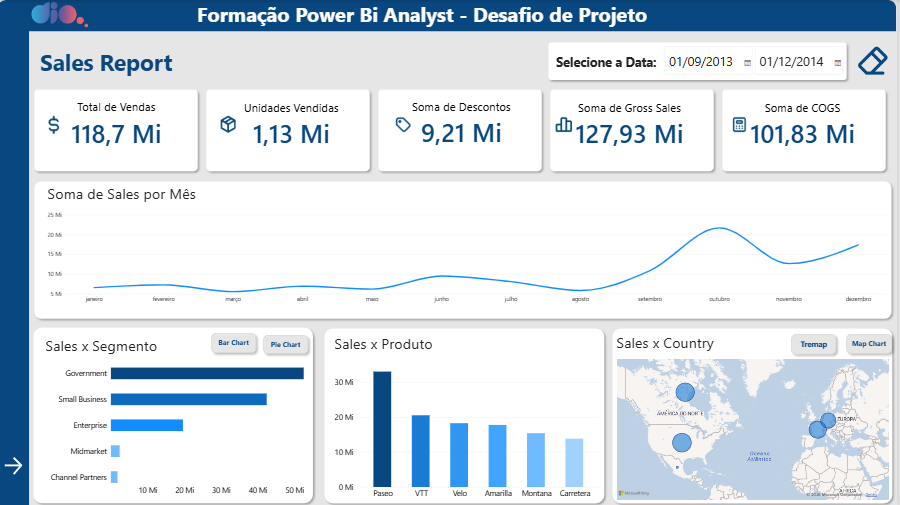

The dashboard page shown, as its layout file describes it:
{"tool":"powerbi","page":{"name":"Página 1","canvas":[1920,1080],"ordinal":0},"visuals":[{"type":"shape","box":[1172.1,80.4,652.4,98.2],"z":0,"group":"g4"},{"type":"group","id":"g1","title":"cartoes","box":[78.7,151.9,1827.7,227.4],"z":0},{"type":"shape","box":[78.7,181.9,365.5,192.3],"z":0,"group":"g1"},{"type":"map","title":"Sales x Country","fields":{"Category":["financials.Country"],"Size":["Sum(financials. Sales)"]},"box":[1308,694.2,611.4,386.1],"z":0,"group":"g2"},{"type":"clusteredBarChart","title":"Sales x Segmento","fields":{"Category":["financials.Segment"],"Y":["Sum(financials. Sales)"]},"box":[96.1,700.4,600.9,375],"z":0,"group":"g3"},{"type":"shape","box":[9.9,0,66.6,1080.9],"z":1000},{"type":"slicer","fields":{"Values":["financials.Date"]},"box":[1421.6,94,442.6,73.8],"z":1000,"group":"g4"},{"type":"shape","box":[444.2,181.9,365.5,192.3],"z":1000,"group":"g1"},{"type":"textbox","box":[1196.8,113.1,250.2,50.4],"z":2000,"group":"g4"},{"type":"shape","box":[809.8,181.9,365.5,192.3],"z":2000,"group":"g1"},{"type":"image","box":[1685.2,477.9,71.8,60.8],"z":2000},{"type":"actionButton","title":"mapchart","box":[1804,701.1,115.4,59],"z":2000,"group":"g2"},{"type":"actionButton","title":"piechart","box":[565.9,703.7,113.4,57.4],"z":2000,"group":"g3"},{"type":"shape","box":[42.4,0,1877.6,67],"z":3000},{"type":"shape","box":[1175.3,181.9,365.5,192.3],"z":3000,"group":"g1"},{"type":"actionButton","title":"barchart","box":[454.8,699.5,113.4,59.9],"z":3000,"group":"g3"},{"type":"actionButton","title":"tremap","box":[1687,701.3,113.3,60.8],"z":3000,"group":"g2"},{"type":"image","title":"dio","box":[73.6,2.6,130.8,56.8],"z":4000},{"type":"shape","box":[1540.9,181.9,365.5,192.3],"z":4000,"group":"g1"},{"type":"textbox","box":[433.3,0,1053.8,59.2],"z":5000},{"type":"cardVisual","fields":{"Data":["Sum(financials.COGS)"]},"box":[1581.4,178.5,279.1,174.1],"z":5000,"group":"g1"},{"type":"cardVisual","fields":{"Data":["Sum(financials. Sales)"]},"box":[142.8,186.2,240.3,158.7],"z":6000,"group":"g1"},{"type":"shape","box":[79.5,376.8,1840.5,310.2],"z":6000},{"type":"cardVisual","fields":{"Data":["Sum(financials.Discounts)"]},"box":[867.5,151.9,257.4,227.4],"z":7000,"group":"g1"},{"type":"shape","box":[76.9,687,612.7,392.2],"z":7000},{"type":"image","title":"cifrao","box":[108.5,245.2,40.8,40.8],"z":8000,"group":"g1"},{"type":"shape","box":[695.1,688.6,613.5,390.4],"z":8000},{"type":"image","title":"caixa","box":[477.4,246.3,42.9,38.6],"z":9000,"group":"g1"},{"type":"shape","box":[1306.5,688.6,613.5,390.4],"z":9000},{"type":"textbox","box":[100.8,100.8,283.2,72.9],"z":10000},{"type":"cardVisual","fields":{"Data":["Sum(financials.Units Sold)"]},"box":[509.6,165.8,248.8,199.5],"z":10000,"group":"g1"},{"type":"image","title":"grafic","box":[1193.9,217.3,38.6,96.5],"z":11000,"group":"g1"},{"type":"lineChart","fields":{"Category":["financials.Date.Variation.Hierarquia de datas.Mês"],"Y":["Sum(financials. Sales)"]},"box":[99.5,375.7,1814.9,289.7],"z":11000},{"type":"cardVisual","fields":{"Data":["Sum(financials.Gross Sales)"]},"box":[1218.4,158.3,270.3,214.5],"z":12000},{"type":"image","title":"etiqueta","box":[845,249.5,55.8,32.2],"z":12000,"group":"g1"},{"type":"image","title":"calculator","box":[1560.8,245.2,51.5,40.8],"z":13000,"group":"g1"},{"type":"actionButton","box":[10.3,904.9,64.1,169.2],"z":13000},{"type":"columnChart","title":"Sales x Produto","fields":{"Category":["financials.Product"],"Y":["Sum(financials. Sales)"]},"box":[710.1,695.2,596.4,386.1],"z":14000},{"type":"group","id":"g2","title":"salesxcountry","box":[1306.7,693.4,613.3,386.8],"z":15000},{"type":"group","id":"g3","title":"salesxsegment","box":[85,699.5,612,382.1],"z":16000},{"type":"image","box":[1831.3,94.1,75.3,69.9],"z":17000},{"type":"group","id":"g4","title":"data","box":[1172.1,80.4,692.1,98.2],"z":18000},{"type":"actionButton","title":"borracha1","box":[1820.5,67.2,86.1,96.8],"z":19000}]}

Visuals, with their boxes in screenshot pixels (x1, y1, x2, y2), scaled from the page's 1920x1080 canvas onto the 900x505 screenshot:
shape: 549:38:855:84
"cartoes" group: 37:71:894:177
shape: 37:85:208:175
"Sales x Country" map: 613:325:899:504
"Sales x Segmento" clusteredBarChart: 45:328:327:503
shape: 5:0:36:504
slicer - financials.Date: 666:44:874:78
shape: 208:85:380:175
textbox: 561:53:678:76
shape: 380:85:551:175
image: 790:223:824:252
"mapchart" actionButton: 846:328:899:355
"piechart" actionButton: 265:329:318:356
shape: 20:0:899:31
shape: 551:85:722:175
"barchart" actionButton: 213:327:266:355
"tremap" actionButton: 791:328:844:356
"dio" image: 34:1:96:28
shape: 722:85:894:175
textbox: 203:0:697:28
cardVisual - Sum(financials.COGS): 741:83:872:165
cardVisual - Sum(financials. Sales): 67:87:180:161
shape: 37:176:899:321
cardVisual - Sum(financials.Discounts): 407:71:527:177
shape: 36:321:323:504
"cifrao" image: 51:115:70:134
shape: 326:322:613:504
"caixa" image: 224:115:244:133
shape: 612:322:899:504
textbox: 47:47:180:81
cardVisual - Sum(financials.Units Sold): 239:78:356:171
"grafic" image: 560:102:578:147
lineChart - financials.Date.Variation.Hierarquia de datas.Mês x Sum(financials. Sales): 47:176:897:311
cardVisual - Sum(financials.Gross Sales): 571:74:698:174
"etiqueta" image: 396:117:422:132
"calculator" image: 732:115:756:134
actionButton: 5:423:35:502
"Sales x Produto" columnChart: 333:325:612:504
"salesxcountry" group: 613:324:899:504
"salesxsegment" group: 40:327:327:504
image: 858:44:894:77
"data" group: 549:38:874:84
"borracha1" actionButton: 853:31:894:77
